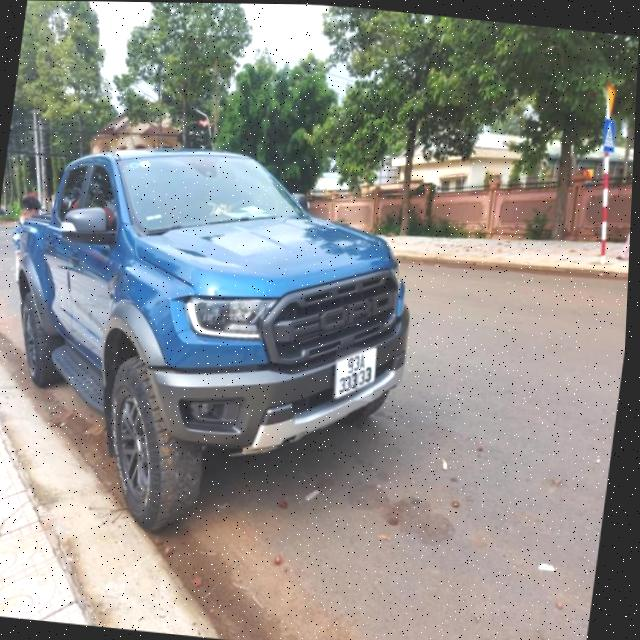car: (0, 122, 438, 565)
plate: (323, 341, 383, 405)
